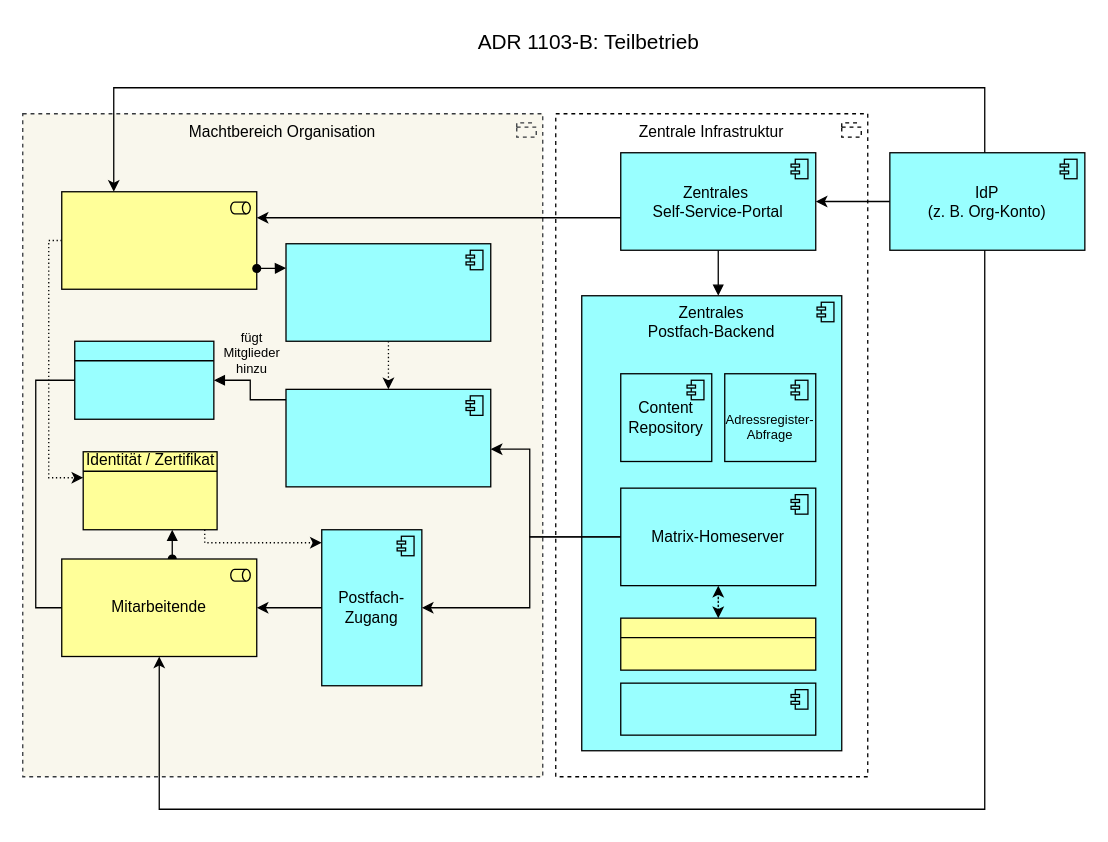
The diagram is 1108 pixels wide and 842 high, and some of its shapes have lost their labels. The shapes that lost their labels are listed below. From the top down, each one's centre as x and y in pixels, then its label:
[158,239]: Org-Admin
[388,291]: Berechtigungsverzeichnis (Rechte/Gruppen)
[143,379]: Vorgangsraum (Matrix-Raum)
[388,437]: Raum-Management-Service (technische Nutzer)
[717,643]: Funktionspostfach
[717,708]: Quittungsdienst
